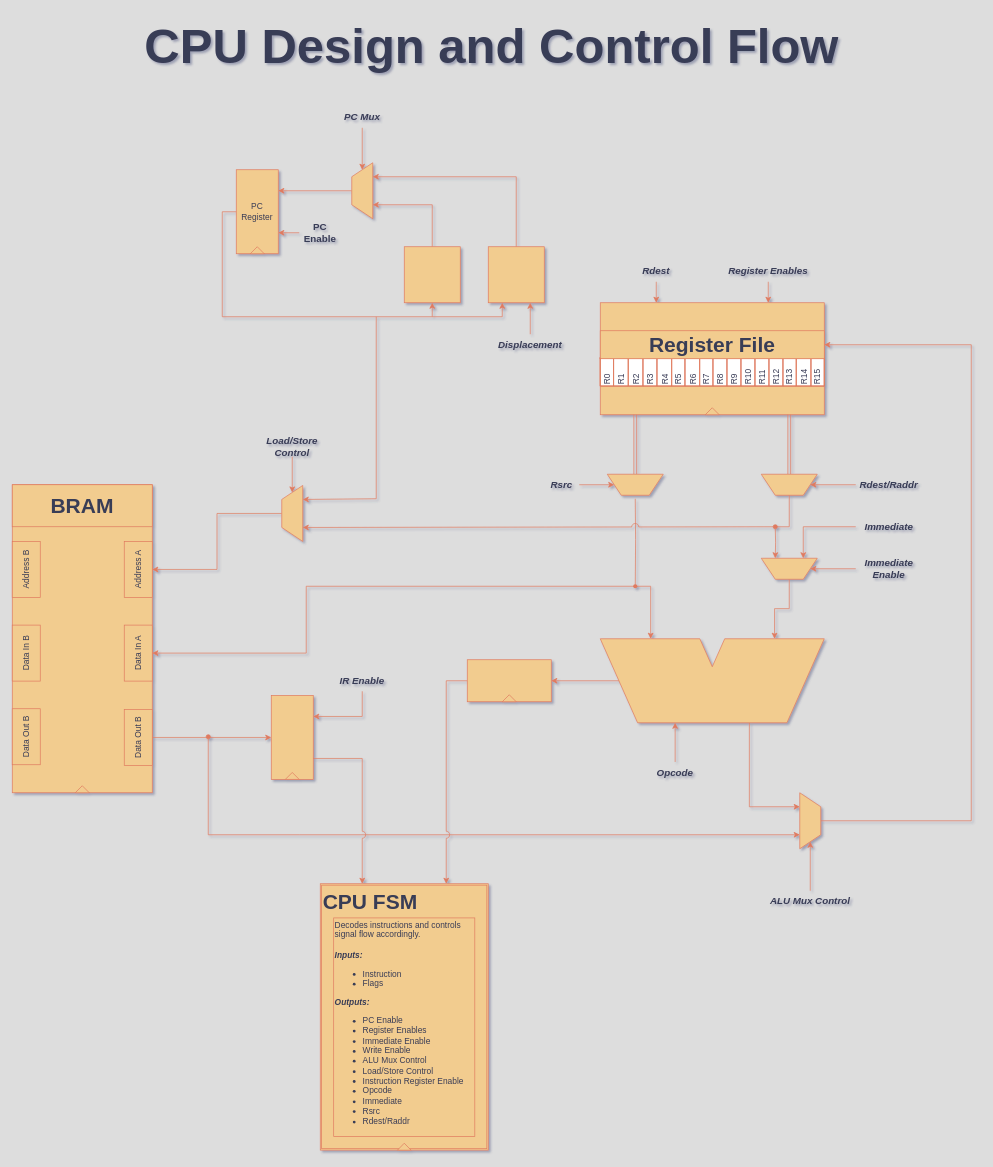
Image size: 993x1167. Some labels were removed from this diagram. Each missing label, with the centre of its shape:
ALU: (712,680)
Flag Register: (509,680)
Instruction Register: (292,737)
PC = PC + 1: (432,274)
PC = PC + Displacement: (516,274)
